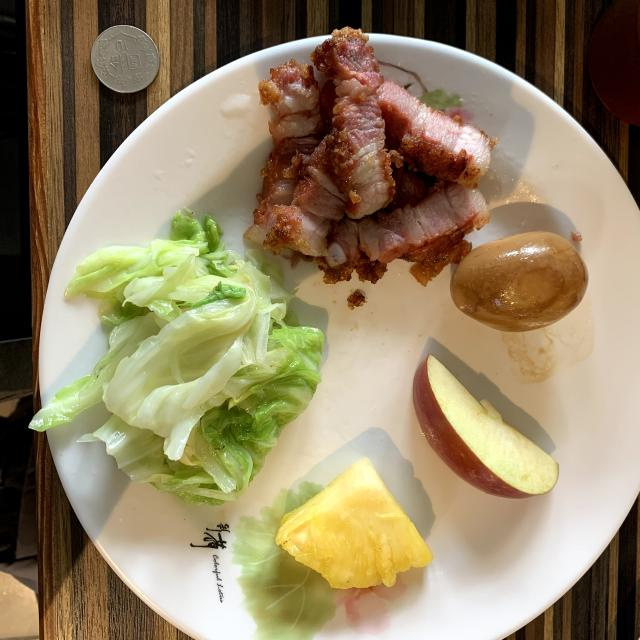apple -sliced-: (412, 355, 559, 499)
cabbage: (30, 212, 322, 505)
coin: (91, 25, 160, 92)
pineapple: (276, 458, 434, 589)
red grilled pork: (245, 28, 495, 284)
soy egg: (450, 231, 588, 332)
